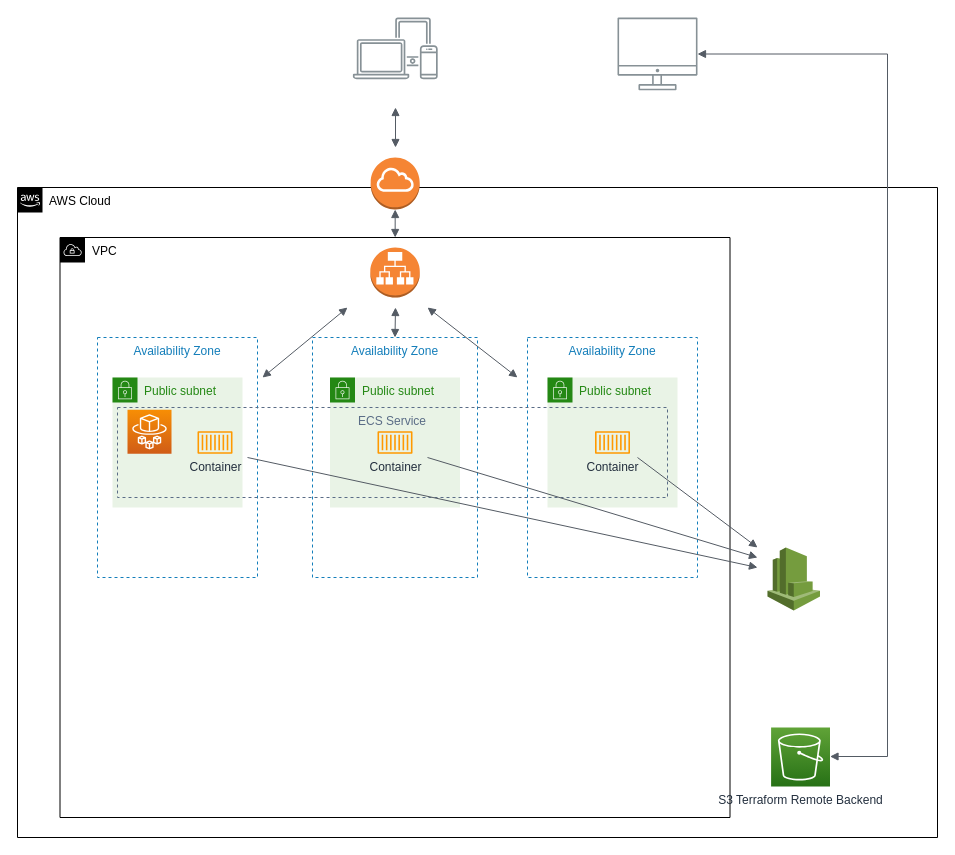
The diagram is 955 pixels wide and 855 high, and some of its shapes have lost their labels. The shapes that lost their labels are listed below. From the top down, each one's centre as x and y in pixels, then its label:
[394,48]: User Devices
[657,53]: Developer Device
[149,431]: AWS Fargate
[793,578]: CloudWatch Logs
